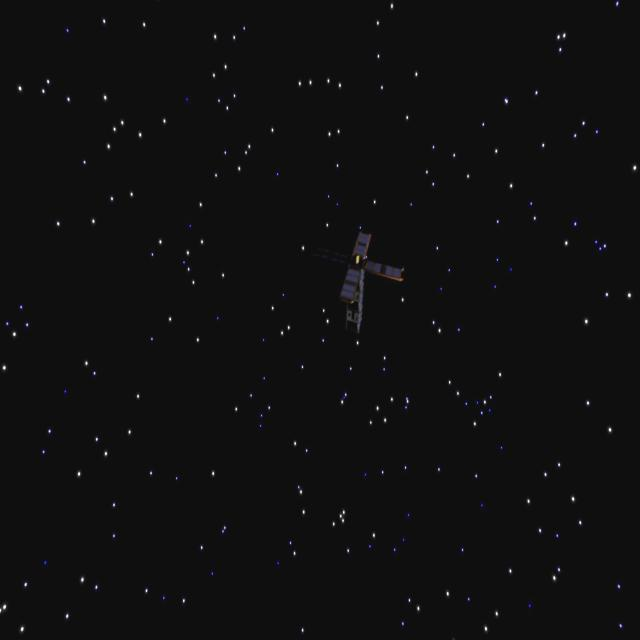satellite: (331, 227, 411, 346)
